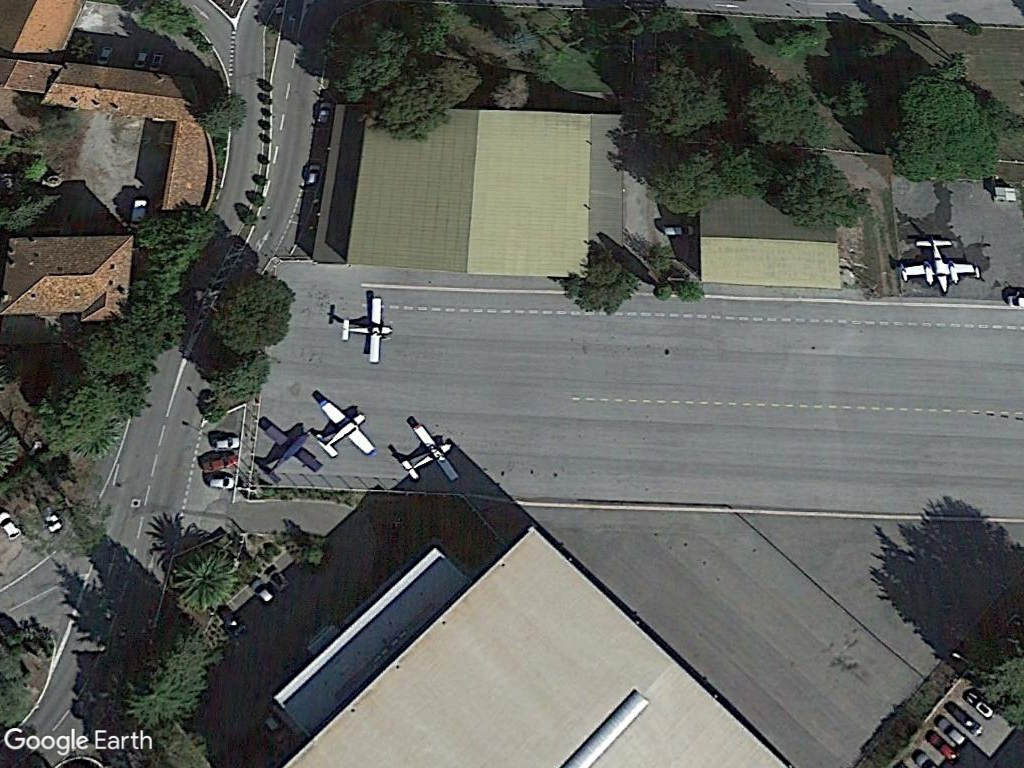trainer: (334, 285, 395, 372), (389, 419, 463, 489), (899, 234, 981, 294), (258, 416, 321, 492), (314, 391, 376, 465)
